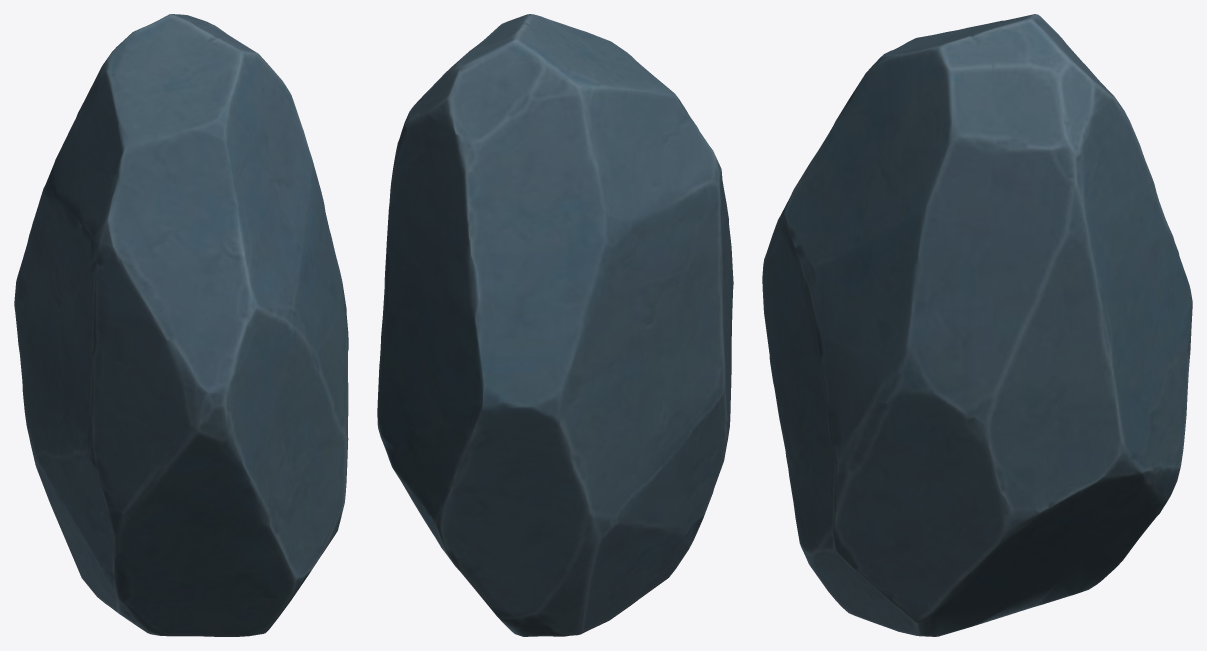
Rendered from sky_boulder_d.glb.
3 renders of one model, left to right at view 1: azimuth 30°, elevation 25°; view 2: azimuth 150°, elevation 25°; view 3: azimuth 270°, elevation 25°, orthographic. The views are drawn at different scales.
Parts seen in each view (by area): view 1: boulder_d; view 2: boulder_d; view 3: boulder_d.
Boxes of the visible parts, x1,y1,x2,y2 form: boulder_d: (14, 14, 348, 636); boulder_d: (377, 14, 733, 636); boulder_d: (762, 14, 1192, 636).
Bounding box in the file's own units: 12.24 × 24.31 × 16.04.
Materials: 1 (1 with a texture image).
